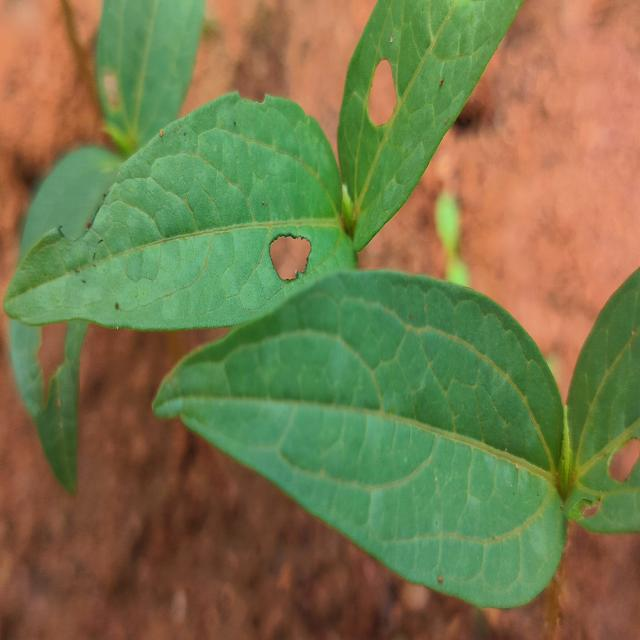Black gram_healthy: (161, 270, 563, 608), (8, 95, 354, 333)
